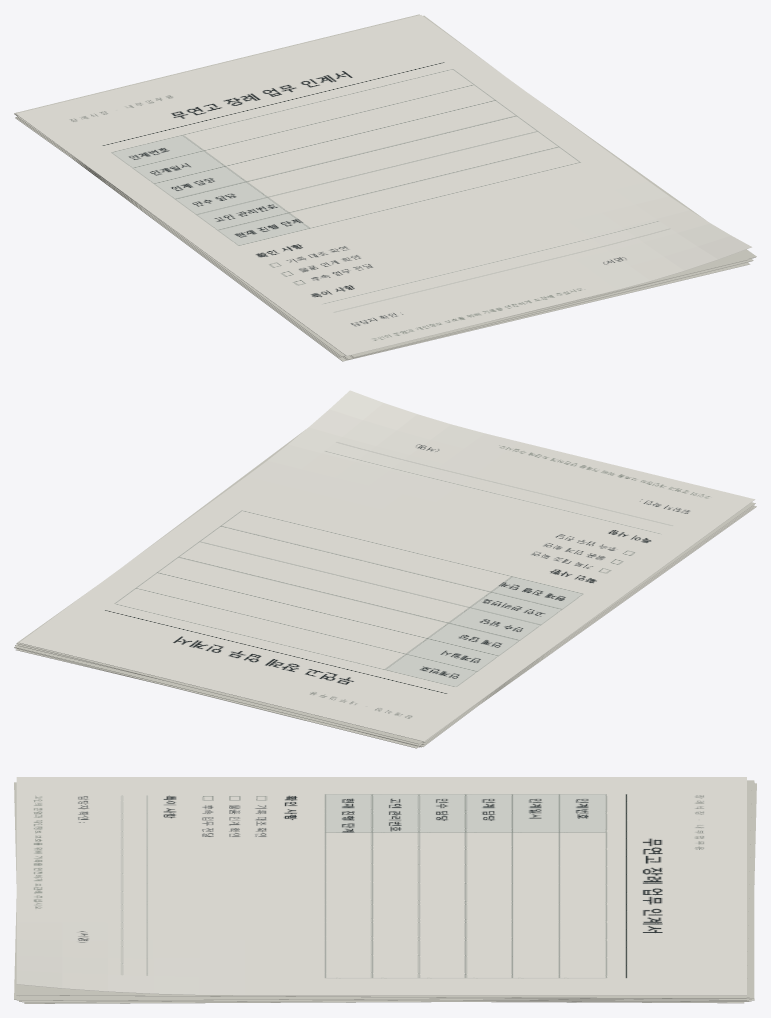
File: Handover_Paper_Stack.fbx
The picture shows the model from 3 angles, top to bottom: view 1: azimuth 30°, elevation 25°; view 2: azimuth 150°, elevation 25°; view 3: azimuth 270°, elevation 25°; orthographic projection. The views are drawn at different scales.
Visible parts, largest first — view 1: Handover_Paper_Stack; view 2: Handover_Paper_Stack; view 3: Handover_Paper_Stack.
Boxes of the visible parts, bbox=[...] form: Handover_Paper_Stack: bbox=[14, 14, 756, 361]; Handover_Paper_Stack: bbox=[14, 390, 756, 748]; Handover_Paper_Stack: bbox=[14, 777, 756, 1003].
Size of the model in its own units: 0.2147 by 0.00789 by 0.3022.
Materials: 2 (1 with a texture image).
